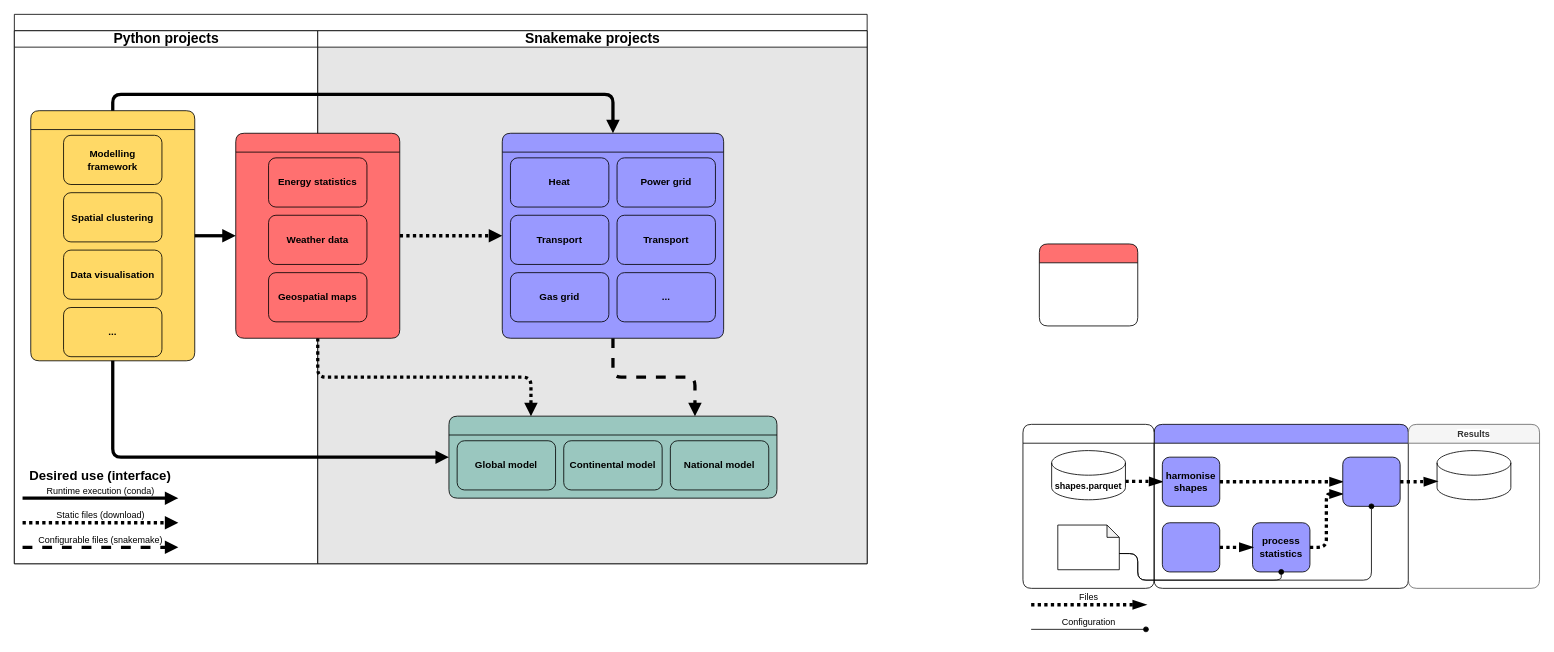
Some shapes in this 1554 by 652 pixel diagram are drawn without their labels. The box of each missing label's shape, as (x1, y1, x2, y2) in pixels:
config.yaml: (1057, 524, 1119, 570)
Data modules: (501, 132, 724, 338)
Dataset tools: (235, 132, 400, 338)
download statistics: (1162, 522, 1220, 572)
Model builders: (448, 415, 777, 498)
Modelblocks module: (1153, 424, 1408, 588)
produce proxy: (1342, 456, 1400, 506)
proxy.parquet: (1436, 450, 1511, 500)
Software tools: (30, 110, 195, 361)
User: (1022, 424, 1154, 588)
User resources: (1039, 243, 1138, 326)
